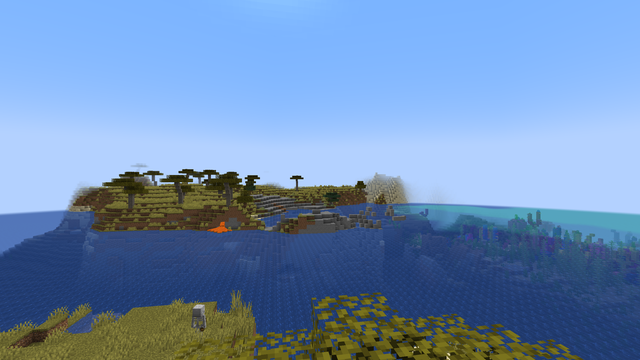squelettes: (191, 304, 204, 338)
